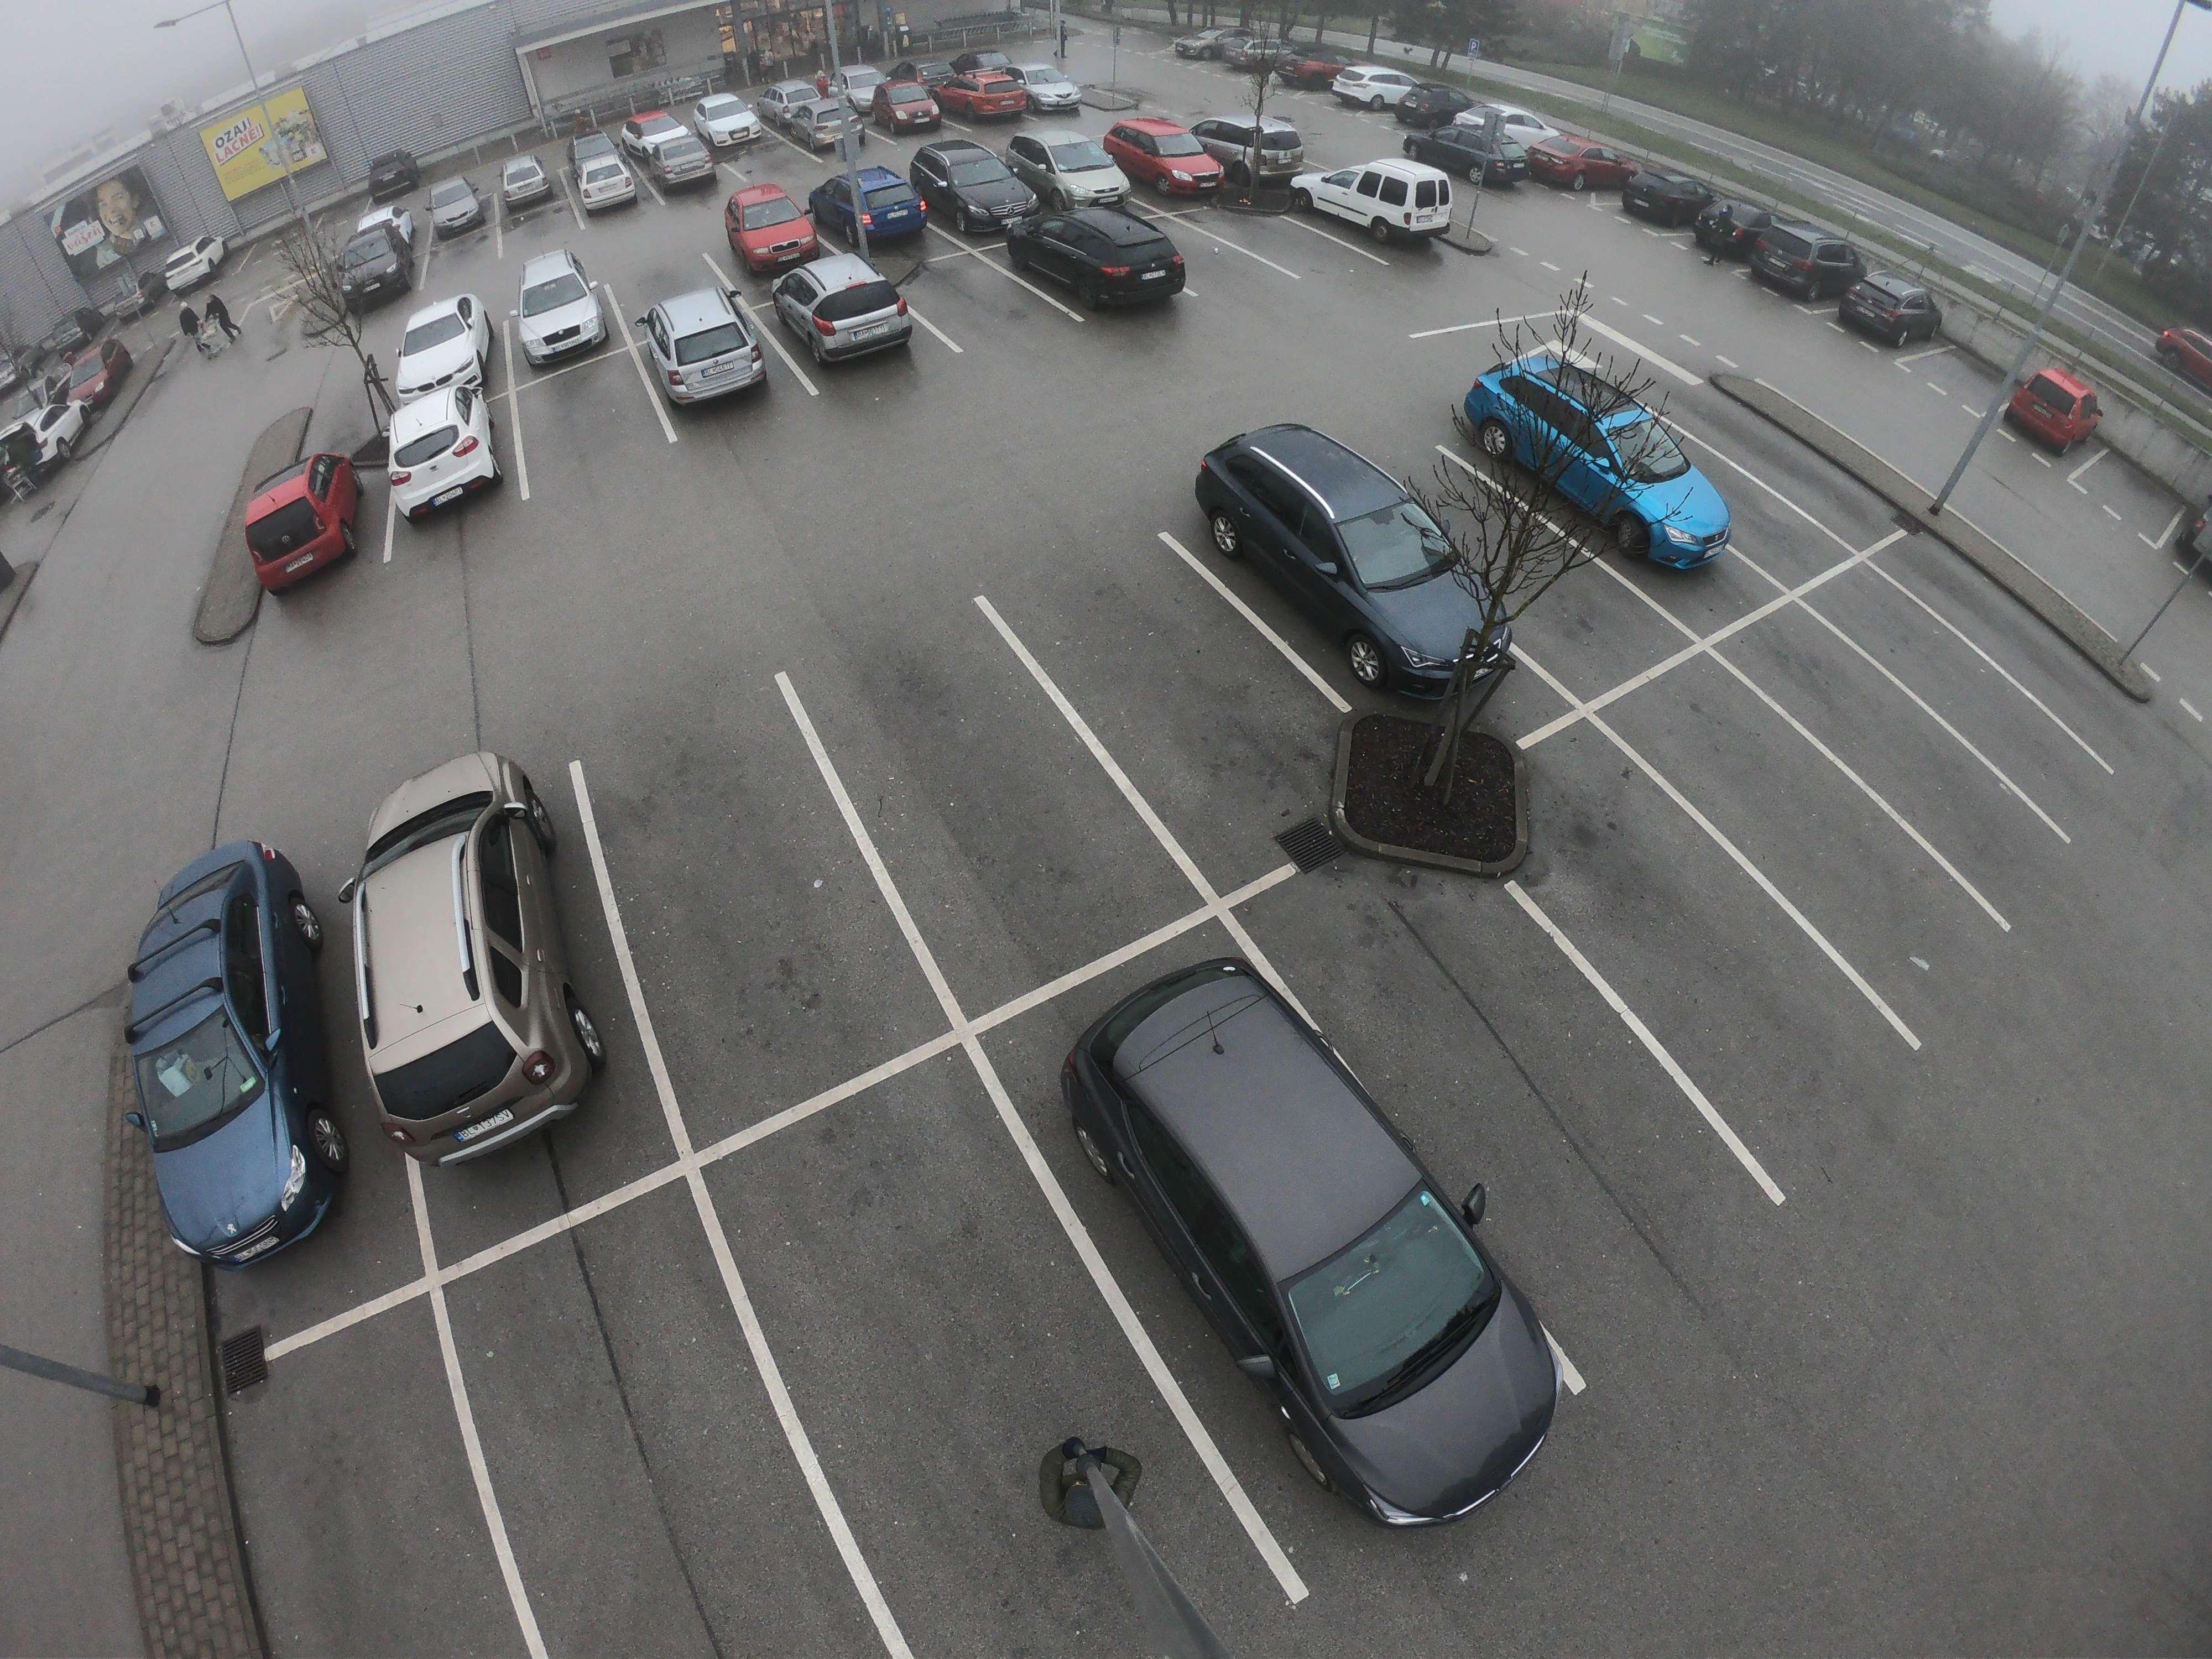empty: (1066, 927, 1552, 1509), (319, 735, 632, 1164), (108, 819, 355, 1281), (1198, 427, 1510, 678), (1479, 369, 1743, 580), (376, 349, 523, 532), (1008, 200, 1190, 315), (637, 284, 779, 411), (232, 458, 359, 589), (777, 256, 921, 369), (1303, 157, 1470, 247), (509, 258, 627, 364), (1731, 223, 1865, 310), (920, 139, 1040, 228), (820, 166, 942, 251), (1831, 265, 1947, 352), (1996, 362, 2107, 451), (1113, 113, 1231, 195), (1200, 110, 1317, 183), (1409, 115, 1526, 185), (1021, 131, 1129, 204), (728, 193, 829, 270), (634, 122, 723, 193), (566, 139, 646, 214), (1005, 52, 1089, 113), (766, 91, 855, 146), (934, 63, 1014, 124), (688, 92, 766, 153), (427, 178, 495, 247), (500, 157, 571, 220), (874, 84, 949, 141), (1334, 68, 1423, 113)
occupied: (516, 1354, 768, 1589), (817, 1239, 1075, 1450), (650, 803, 850, 978), (300, 1490, 503, 1659), (1404, 995, 1599, 1152), (894, 730, 1090, 873), (1608, 861, 1771, 1004), (1094, 619, 1259, 741), (1728, 755, 1848, 859), (1829, 692, 1930, 769), (538, 382, 632, 460), (1907, 640, 1996, 706), (1958, 584, 2041, 652), (1695, 378, 1766, 457), (925, 274, 1012, 335), (620, 258, 702, 312), (319, 371, 376, 448), (1254, 218, 1332, 272), (1932, 345, 1998, 406), (1174, 235, 1230, 282)
